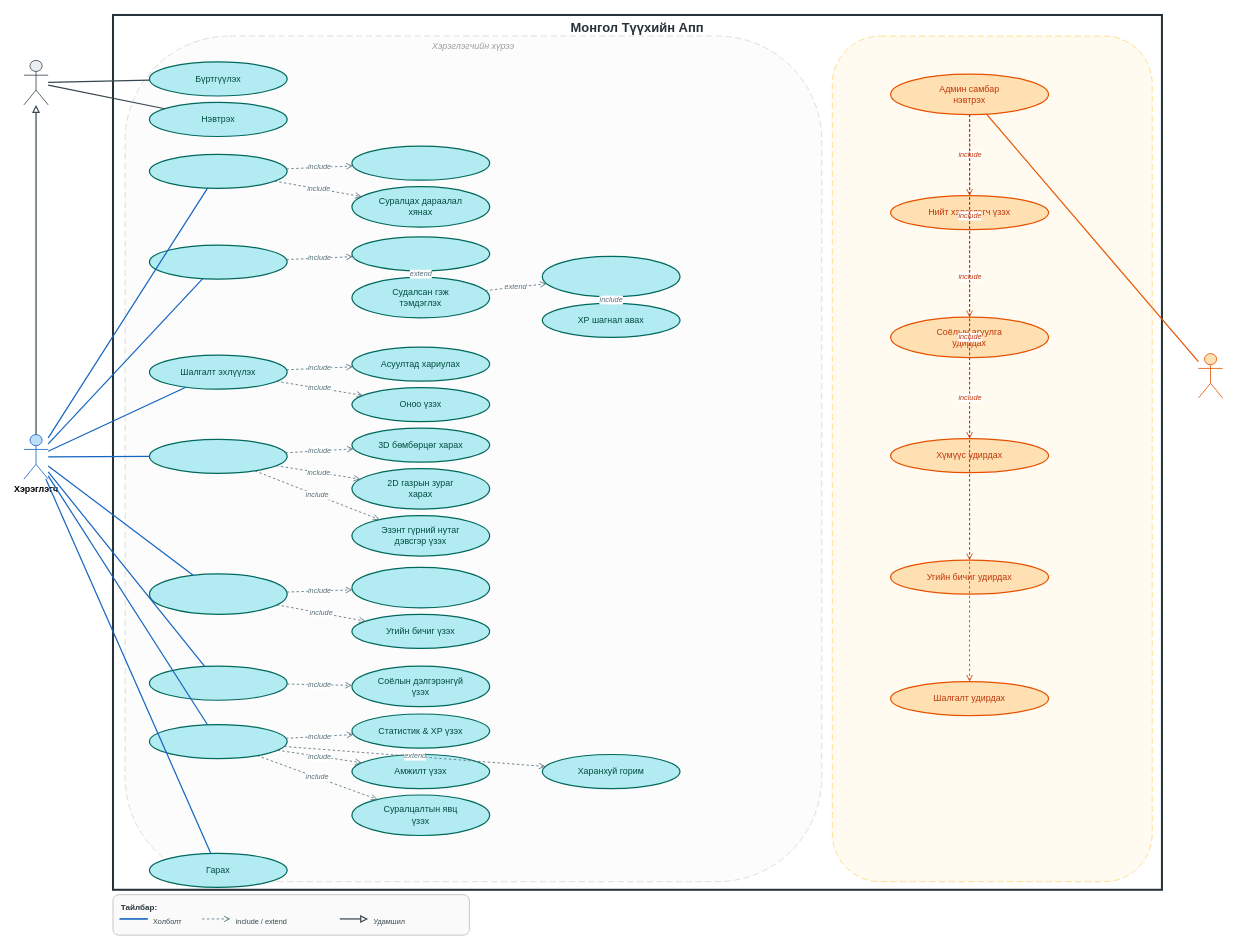
This 1238x949 diagram has some shape labels left out. Each missing label, with the box of its shape:
Админ: (1198, 353, 1223, 398)
Админы хүрээ: (831, 35, 1152, 882)
Аялал үзэх: (148, 244, 287, 279)
Газрын зураг үзэх: (148, 438, 287, 474)
Зочин: (23, 60, 48, 105)
Нүүр хуудас үзэх: (148, 153, 287, 189)
Профайл үзэх: (148, 724, 287, 759)
Соёлын сэдэв үзэх: (148, 665, 287, 700)
Түүх унших: (351, 236, 490, 271)
Түүхийн шалгалт өгөх: (541, 255, 680, 297)
Хүмүүсийн жагсаалт үзэх: (148, 573, 287, 615)
Хүний дэлгэрэнгүй үзэх: (351, 566, 490, 608)
Өдрийн баримт үзэх: (351, 145, 490, 180)
